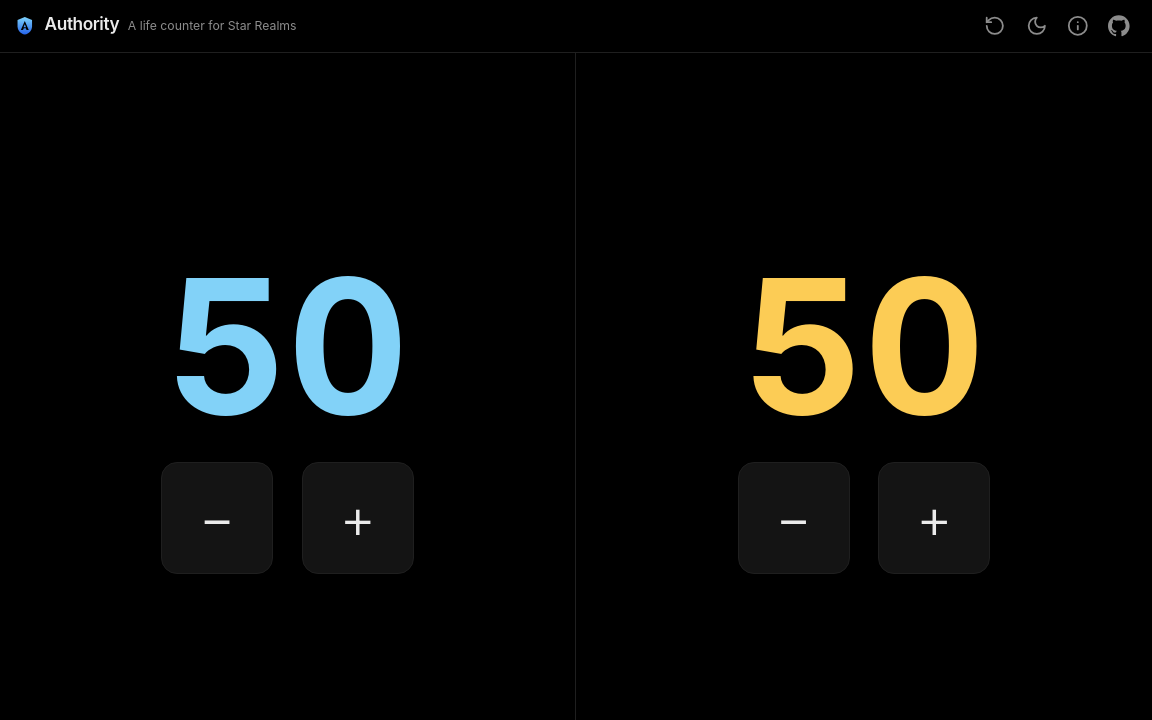
Test case: AuthorityBoard › only resets after the confirmation is accepted
What coordinates should you click on to do the following:
click the button named "Player 1: gain 1 authority"
I would click on:
 (358, 518)
Its box is [302,462,414,574].
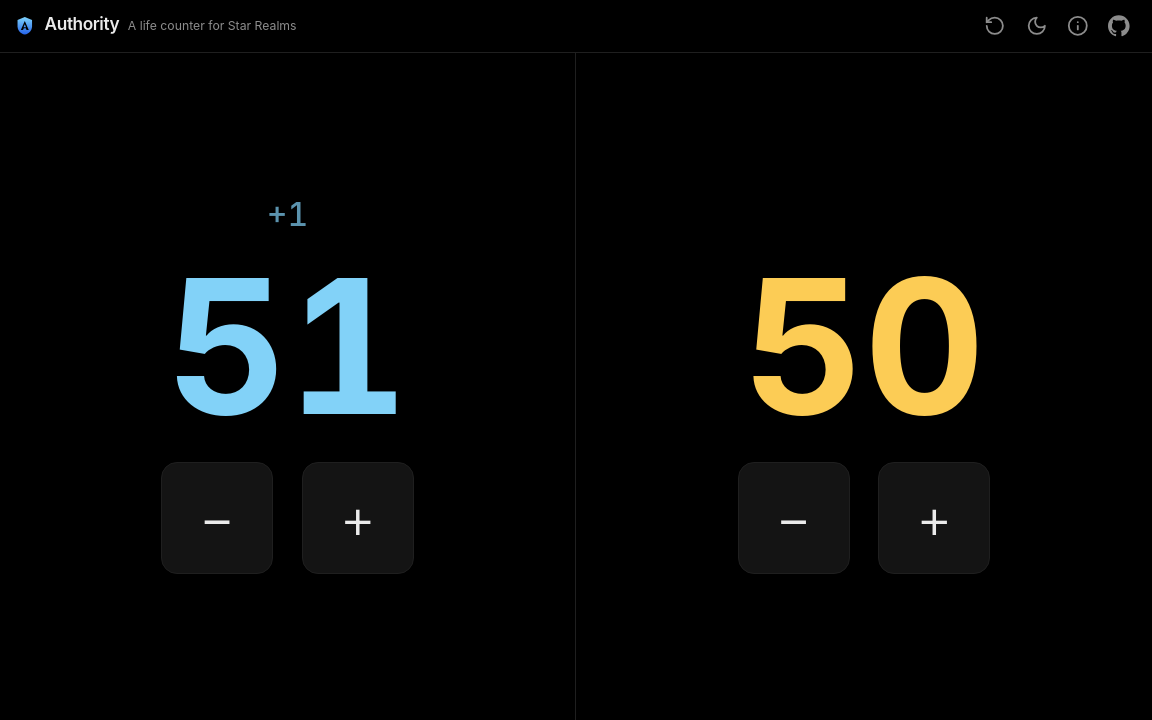
What coordinates should you click on to do the following:
click the button named "Start a new game"
I would click on:
 (995, 26)
Its box is [976,7,1014,45].
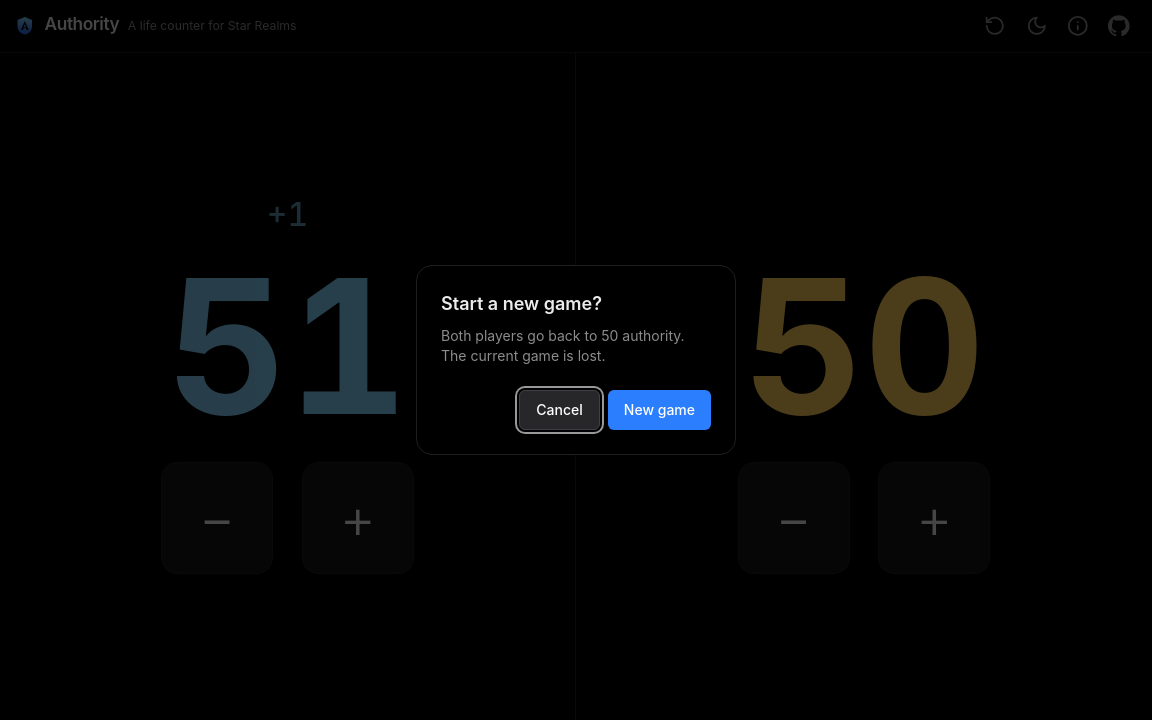
Now the text "51" is shown, box [166,253,408,440]
What coordinates should you click on to do the following:
click the button "New game"
I would click on:
 (659, 410)
Its box is [608,390,711,430].
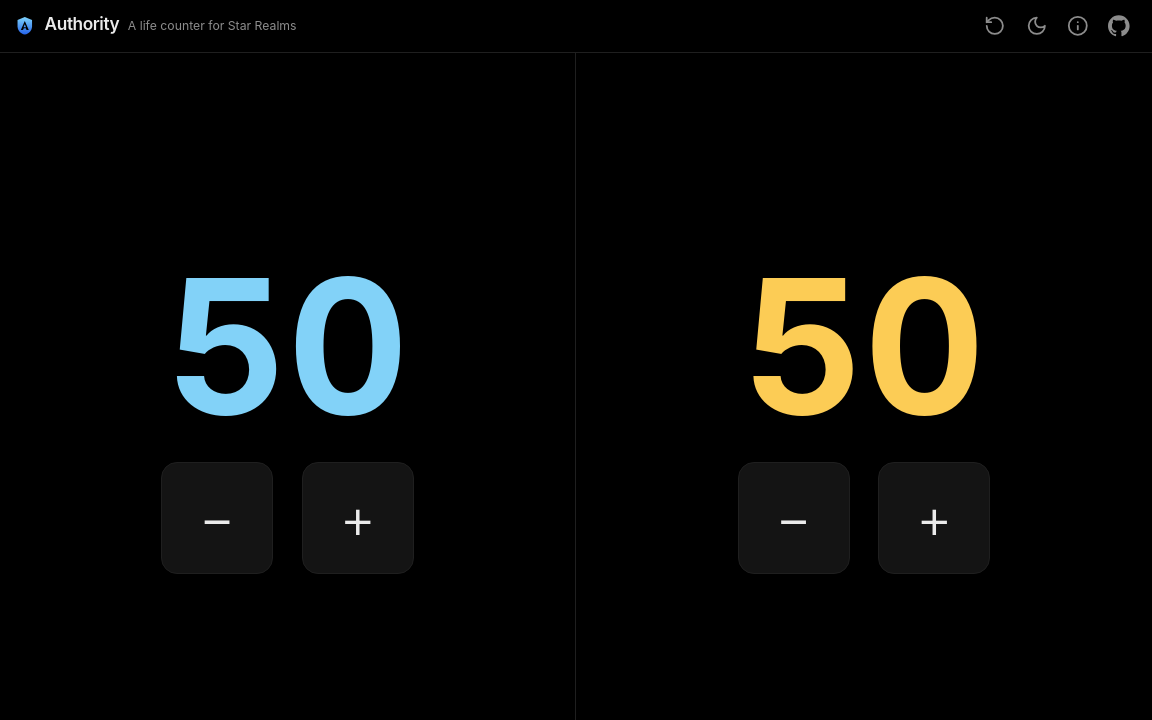
Expected: the 2nd text "50" is shown, [743,253,985,440]
Now the 1st text "50" is shown, box [166,253,408,440]
